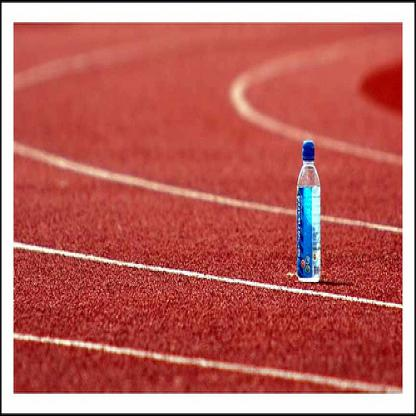bottle: (294, 134, 320, 282)
